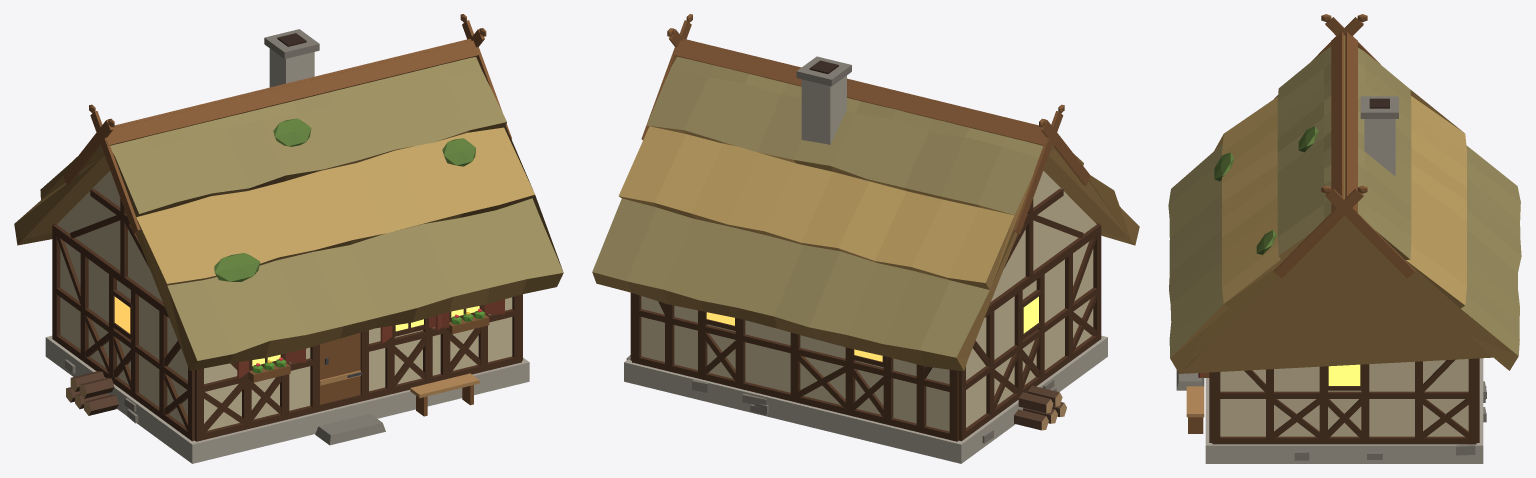
Rendered from Dorf_Hofhaus.fbx.
3 renders of one model, left to right at view 1: azimuth 30°, elevation 25°; view 2: azimuth 150°, elevation 25°; view 3: azimuth 270°, elevation 25°, orthographic. The views are drawn at different scales.
Visible parts, largest first — view 1: Dorf_Hofhaus; view 2: Dorf_Hofhaus; view 3: Dorf_Hofhaus.
Part boxes in pixels (x1,y1,x2,y2): Dorf_Hofhaus: (14,14,563,463); Dorf_Hofhaus: (592,14,1139,463); Dorf_Hofhaus: (1168,14,1521,463).
Bounding box in the file's own units: 8.36 × 6.42 × 7.
